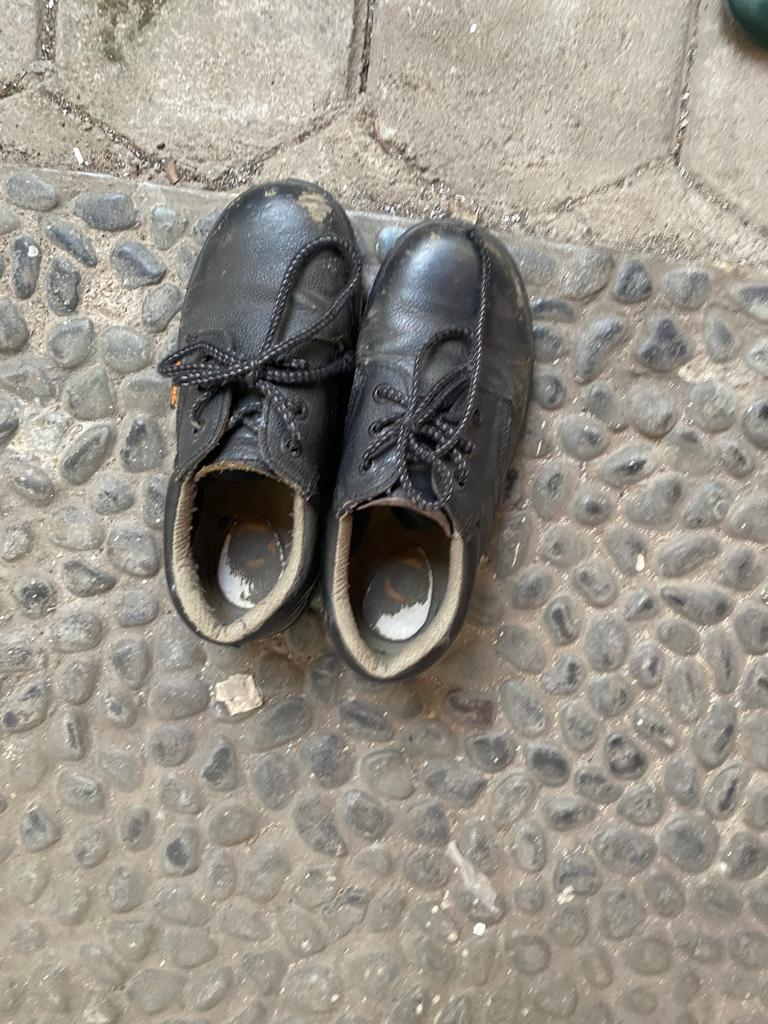SEPATU: (178, 217, 495, 674)
